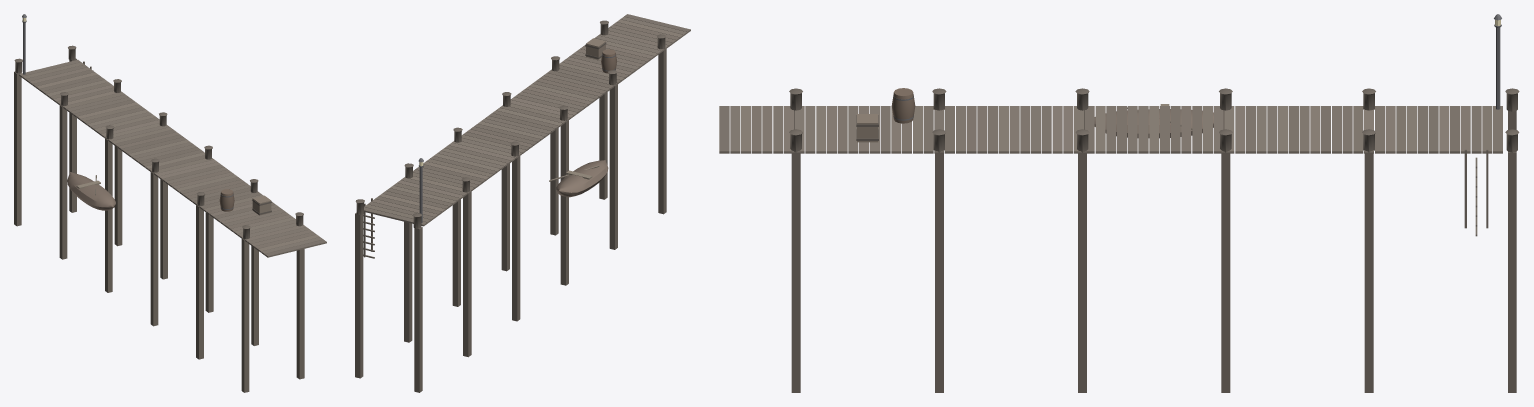
The model's file is dock_2.gltf.
3 renders of one model, left to right at view 1: azimuth 30°, elevation 25°; view 2: azimuth 150°, elevation 25°; view 3: azimuth 270°, elevation 25°, orthographic. The views are drawn at different scales.
Parts seen in each view (by area): view 1: Body; view 2: Body; view 3: Body.
Part boxes in pixels (x1,y1,x2,y2): Body: [14, 14, 326, 392]; Body: [355, 14, 690, 392]; Body: [719, 14, 1519, 392].
Size of the model in its own units: 5.9 by 10.36 by 22.34.
